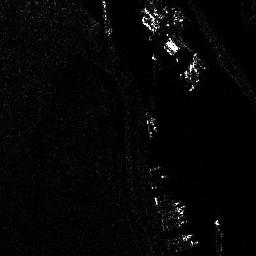ship: (140, 15, 158, 31), (164, 40, 179, 56)
